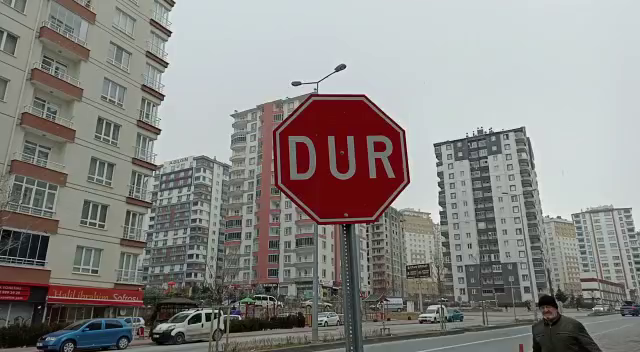stop: (271, 93, 414, 227)
